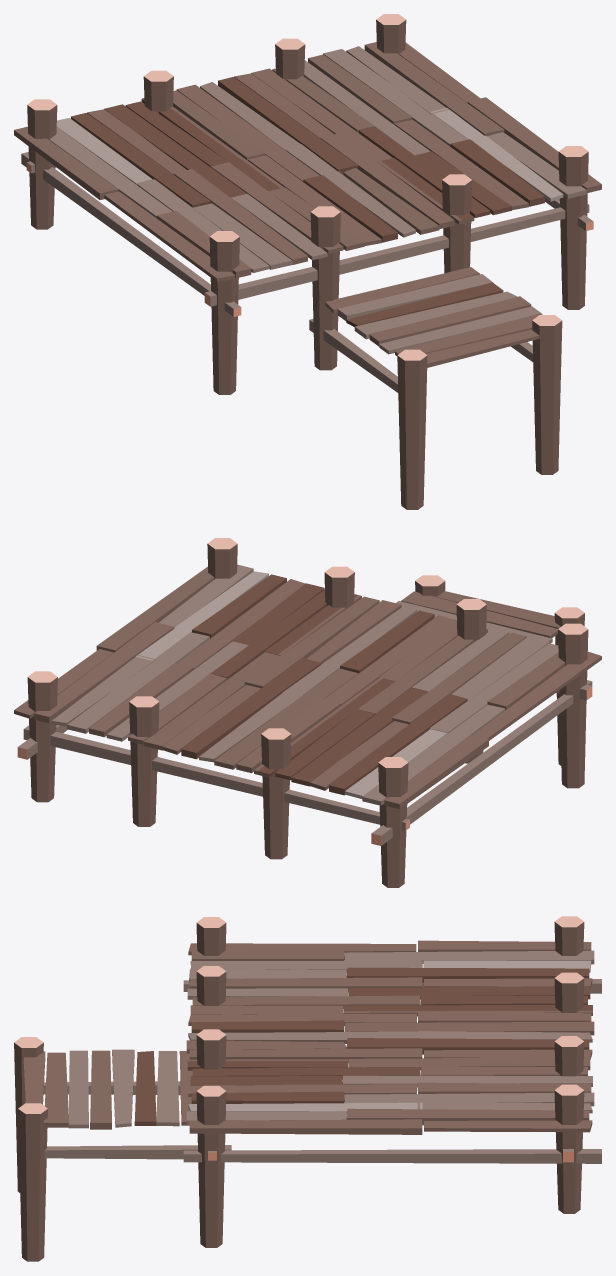
Rendered from Building_001.glb.
The picture shows the model from 3 angles, top to bottom: view 1: azimuth 30°, elevation 25°; view 2: azimuth 150°, elevation 25°; view 3: azimuth 270°, elevation 25°; orthographic projection.
Visible parts, largest first — view 1: Building_001; view 2: Building_001; view 3: Building_001.
Part boxes in pixels (x1,y1,x2,y2): Building_001: (14,14,601,509); Building_001: (14,538,601,887); Building_001: (14,916,601,1261).
Size of the model in its own units: 15.73 by 8.72 by 20.84.
1 material, 1 textured.
